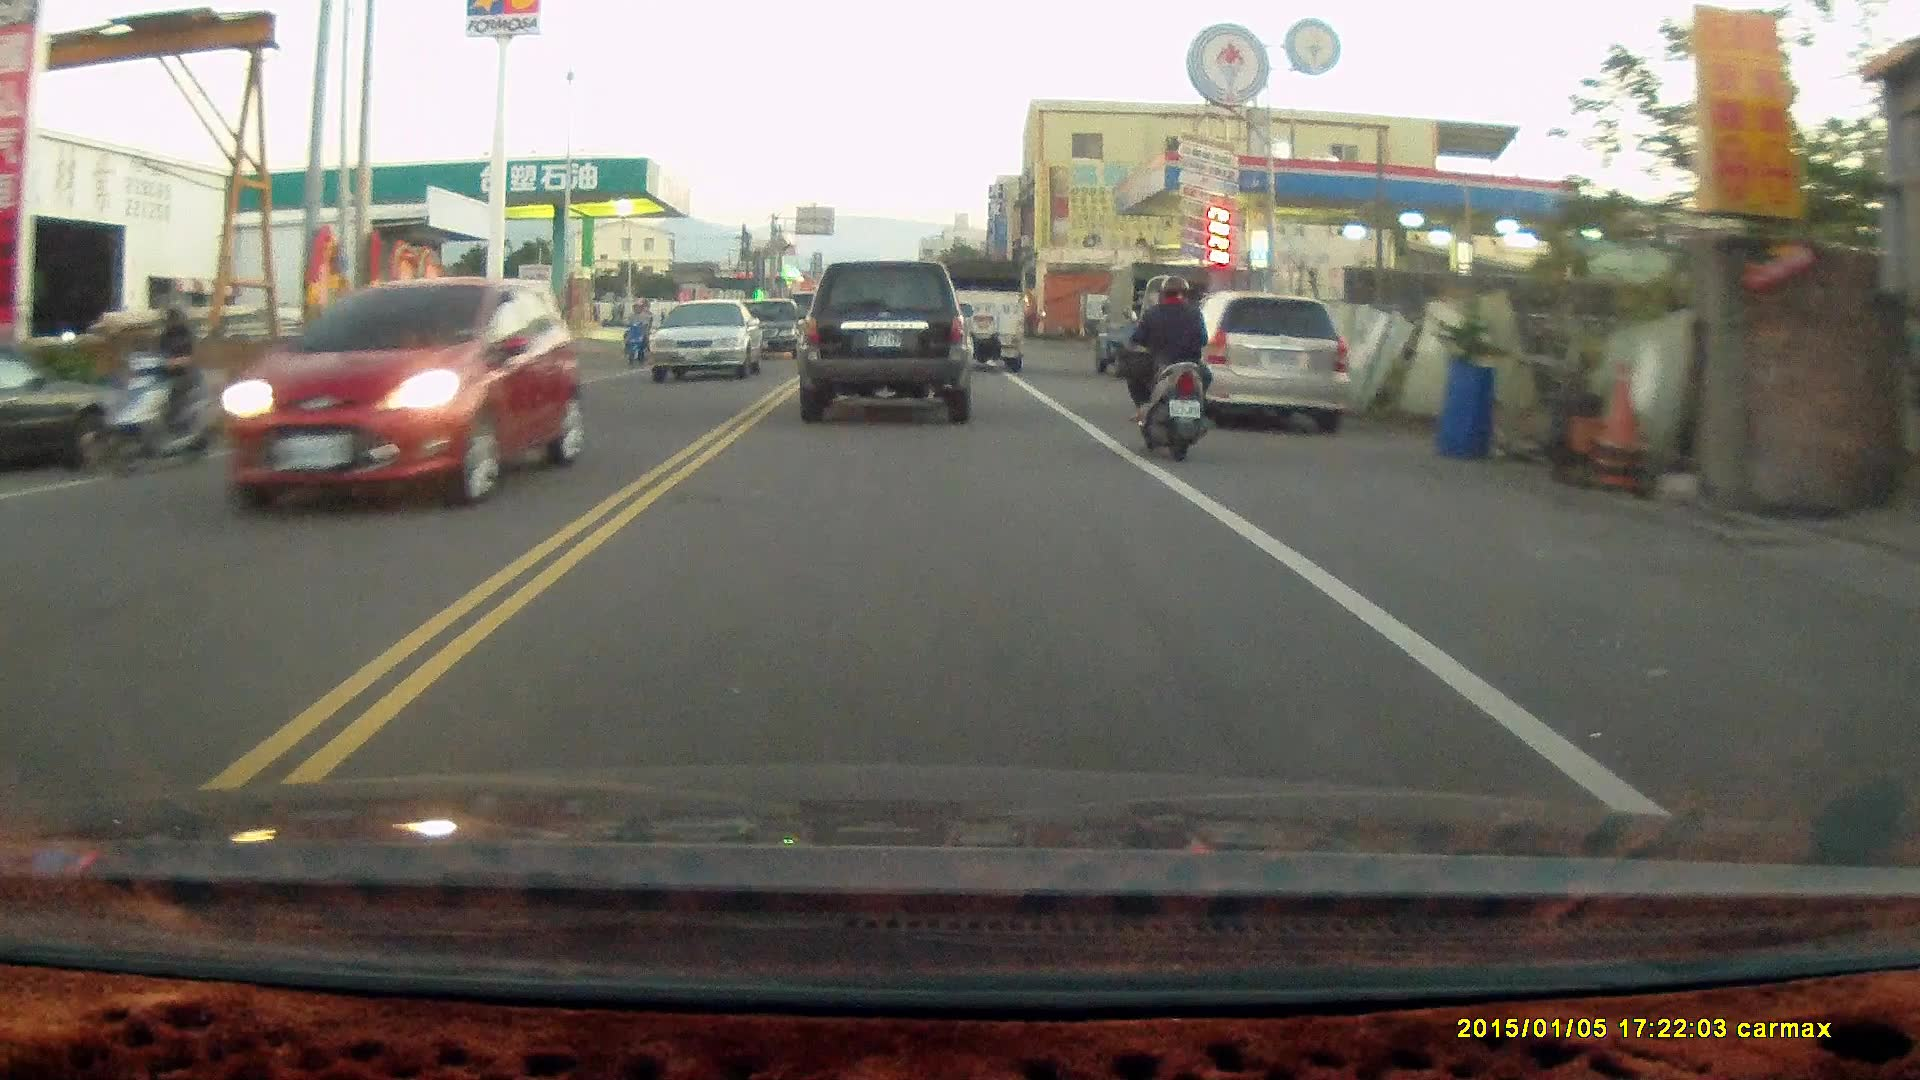rider: (79, 296, 228, 484), (1117, 271, 1214, 458), (618, 298, 656, 366)
vehicle: (234, 277, 580, 514), (346, 279, 556, 436), (794, 260, 969, 425), (1167, 291, 1349, 438), (1, 331, 127, 470), (1096, 263, 1213, 378), (938, 253, 1026, 371), (649, 299, 766, 383), (733, 300, 809, 358)
